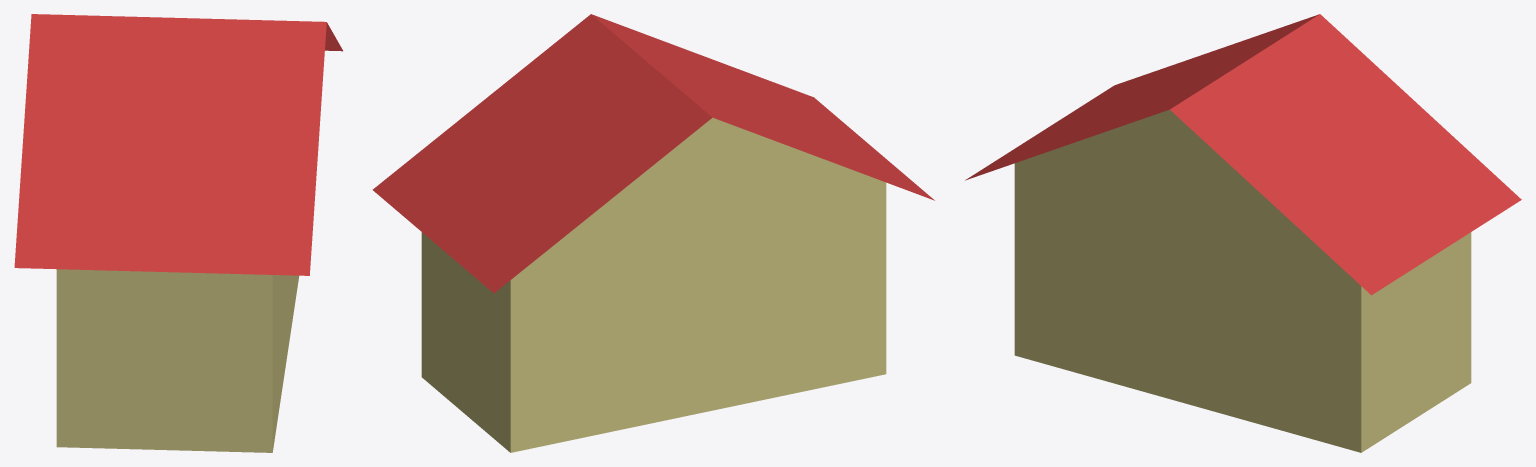
The picture shows the model from 3 angles, left to right: view 1: azimuth 30°, elevation 25°; view 2: azimuth 150°, elevation 25°; view 3: azimuth 270°, elevation 25°; orthographic projection. The views are drawn at different scales.
Visible parts, largest first — view 1: group_3, group_5, group_4; view 2: group_5, group_3, group_4; view 3: group_5, group_3, group_4.
Part boxes in pixels (x1=…): group_3: x1=14, y1=14, x2=335, y2=275; group_5: x1=56, y1=269, x2=299, y2=452; group_4: x1=14, y1=16, x2=342, y2=275; group_5: x1=421, y1=117, x2=886, y2=452; group_3: x1=372, y1=14, x2=885, y2=292; group_4: x1=416, y1=14, x2=934, y2=285; group_5: x1=1014, y1=109, x2=1471, y2=452; group_3: x1=965, y1=14, x2=1521, y2=295; group_4: x1=966, y1=14, x2=1446, y2=294.
Size of the model in its own units: 20.48 by 22.98 by 14.
